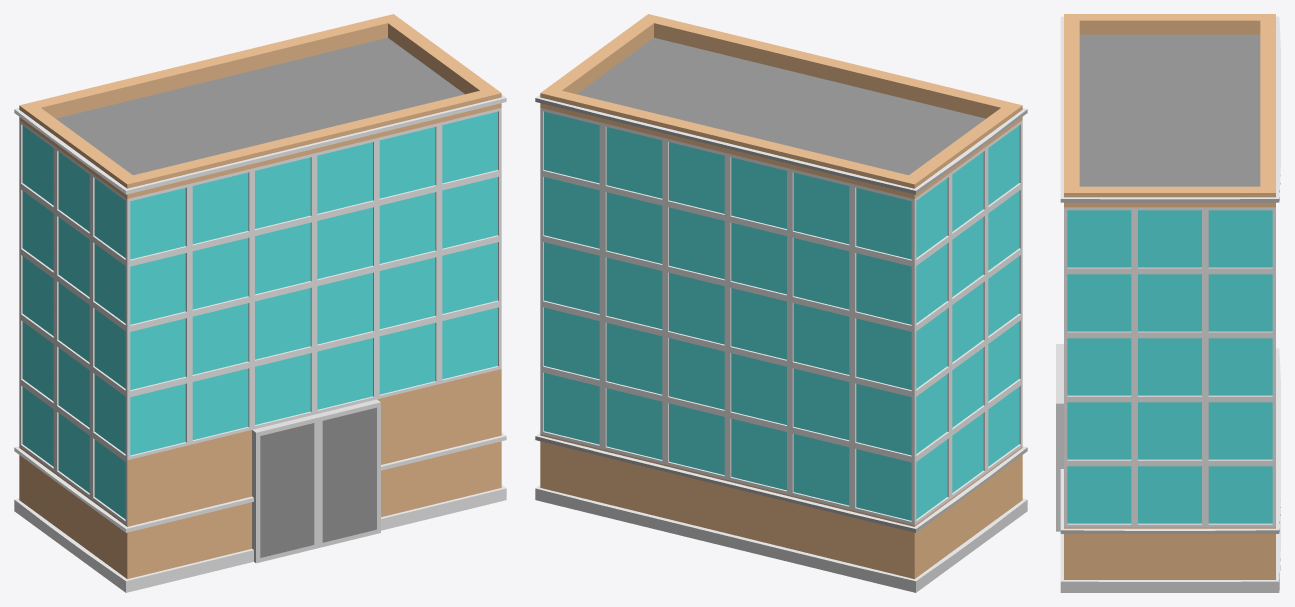
Rendered from SM_House_19_01.FBX.
The picture shows the model from 3 angles, left to right: view 1: azimuth 30°, elevation 25°; view 2: azimuth 150°, elevation 25°; view 3: azimuth 270°, elevation 25°; orthographic projection. The views are drawn at different scales.
Parts seen in each view (by area): view 1: SM_House_19_01; view 2: SM_House_19_01; view 3: SM_House_19_01.
Boxes of the visible parts, <box> form: SM_House_19_01: <box>14,14,506,592</box>; SM_House_19_01: <box>535,14,1027,592</box>; SM_House_19_01: <box>1056,14,1280,592</box>.
Bounding box in the file's own units: 6.14 × 6.22 × 3.18.
Materials: 1 (1 with a texture image).
